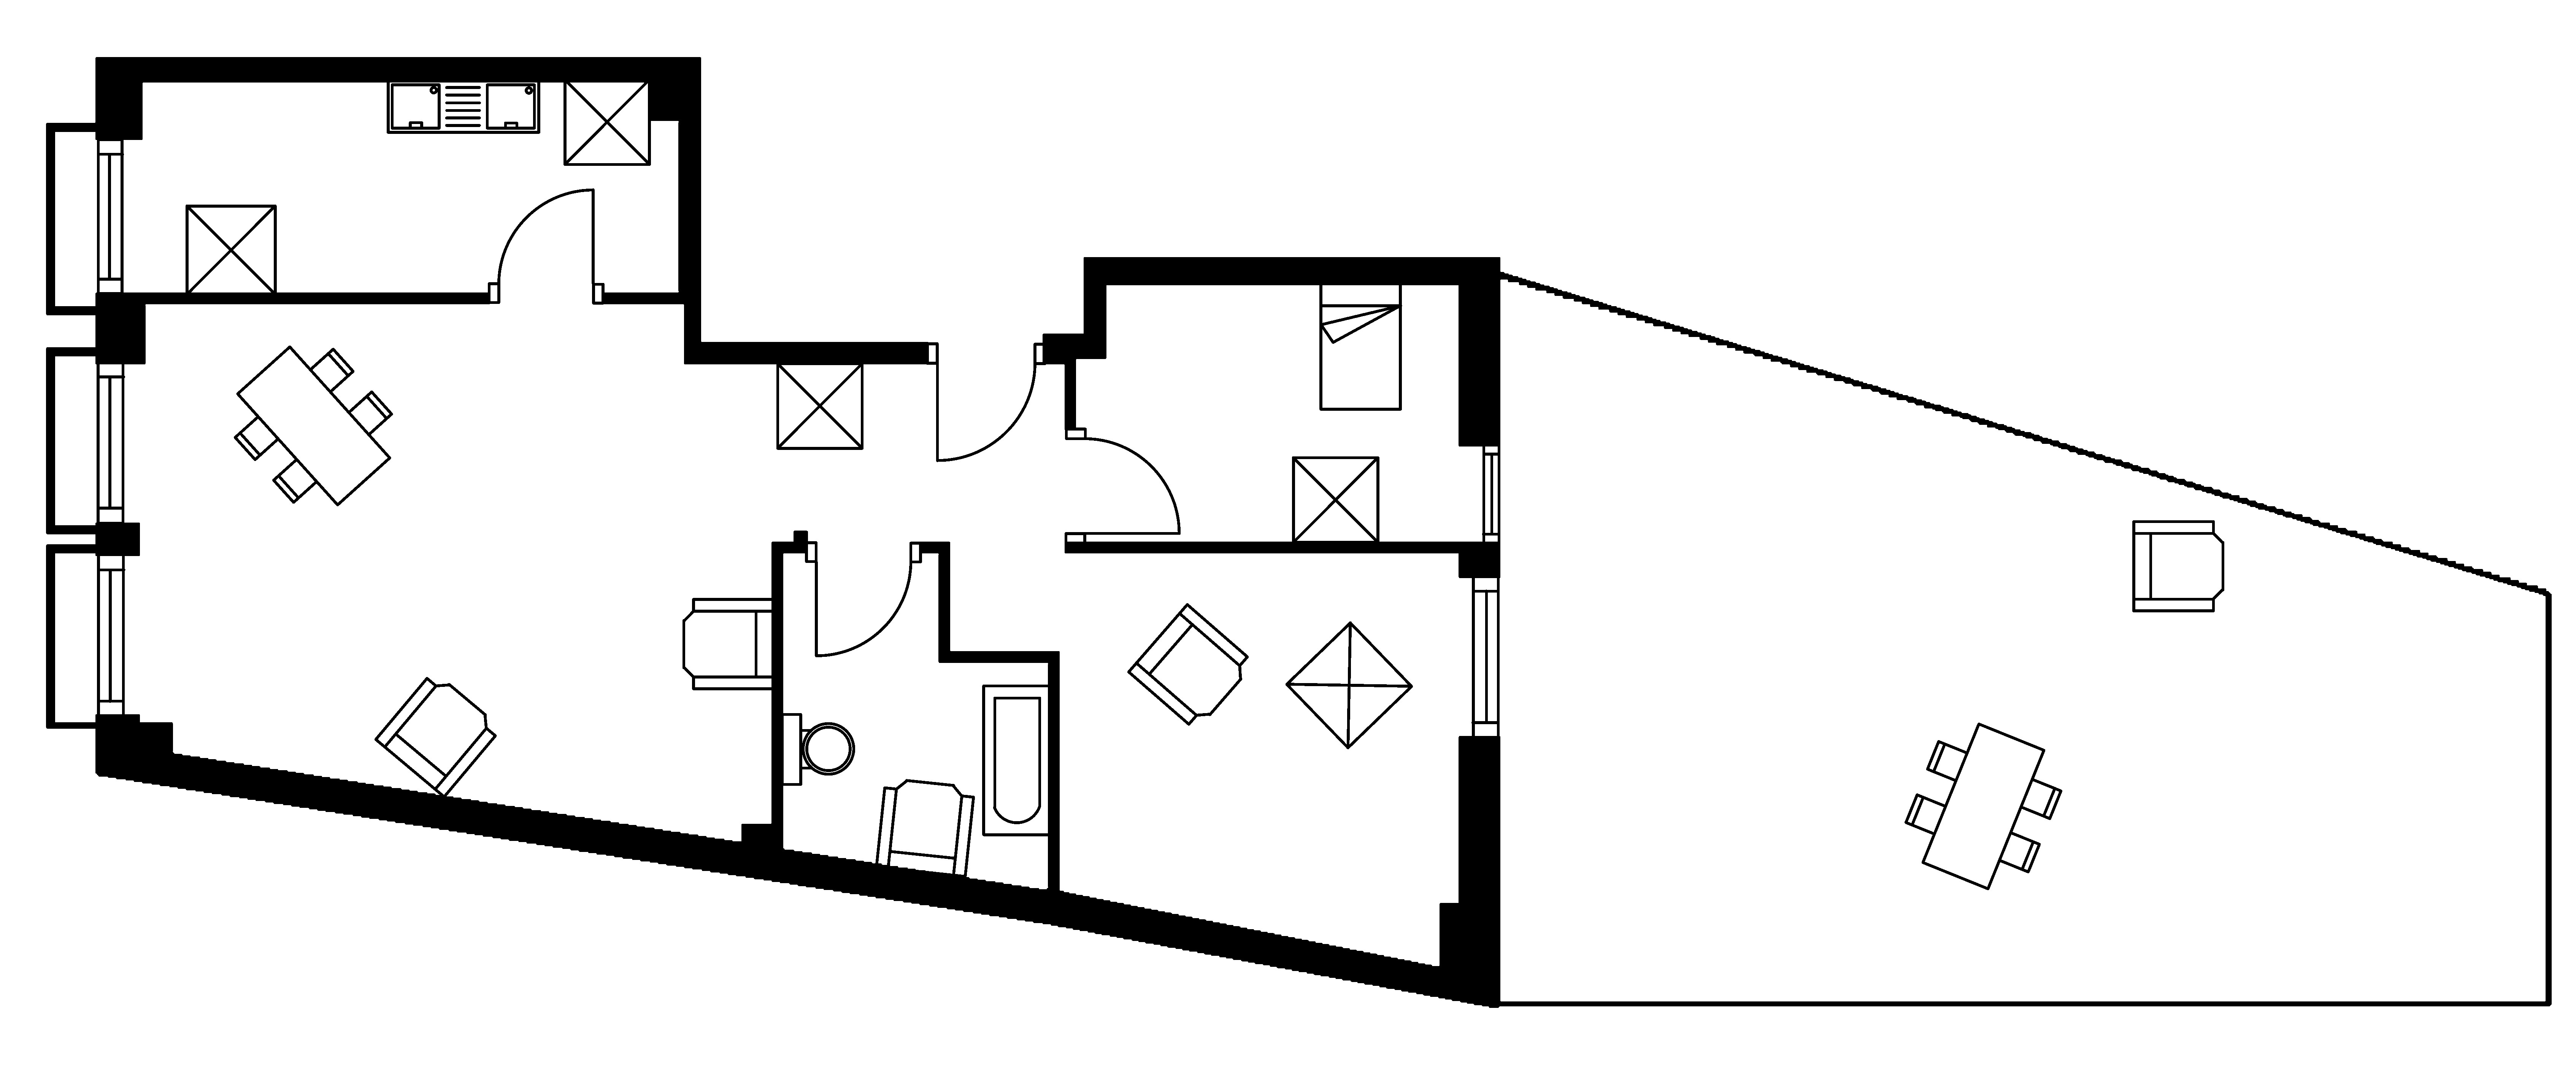armchair: (1127, 602, 1249, 727), (373, 676, 496, 798), (874, 778, 976, 878), (682, 597, 774, 691), (2131, 520, 2224, 612)
bed: (1318, 281, 1403, 411)
coffee_table: (1285, 620, 1413, 750), (184, 204, 276, 296), (562, 77, 651, 166), (775, 362, 864, 451), (1291, 456, 1380, 544)
dining_table: (1904, 722, 2063, 890), (233, 345, 393, 506)
large_sink: (780, 712, 854, 786)
tub: (981, 684, 1051, 837)
twin_sink: (386, 77, 540, 133)
